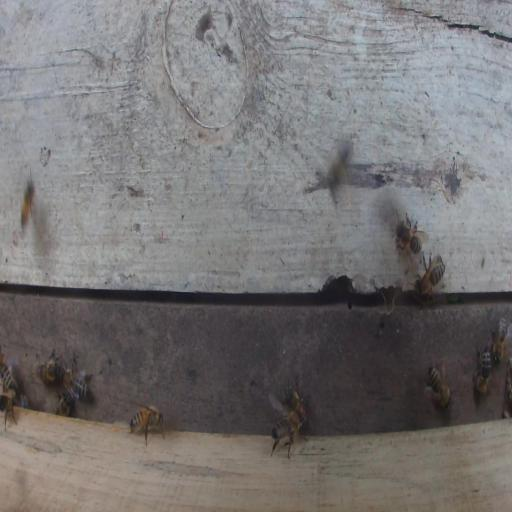nonpollenbee: (423, 358, 453, 411), (414, 251, 445, 302), (394, 210, 425, 258), (129, 405, 165, 446), (270, 414, 298, 459), (62, 358, 91, 401), (282, 384, 309, 427), (21, 176, 37, 232), (37, 349, 62, 384), (474, 344, 491, 395), (1, 347, 19, 394), (491, 316, 507, 365), (1, 392, 18, 430), (54, 391, 76, 417), (13, 394, 29, 408), (294, 422, 294, 423)
